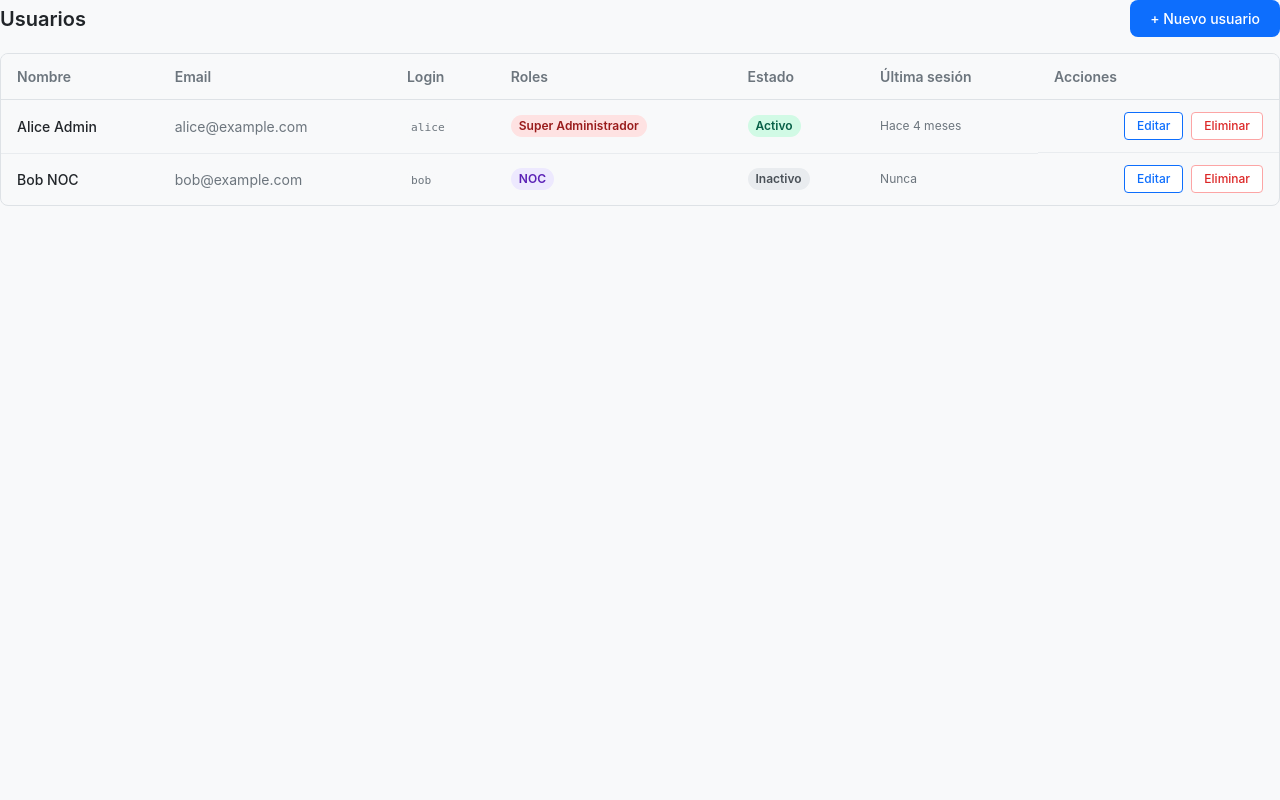
Test: RbacUsersBody › opens RbacUserModal in edit mode when "Editar" is clicked
The image size is (1280, 800).
Click the button "Editar" in the row of "Alice Admin": (1154, 126) [1124,112,1183,140]
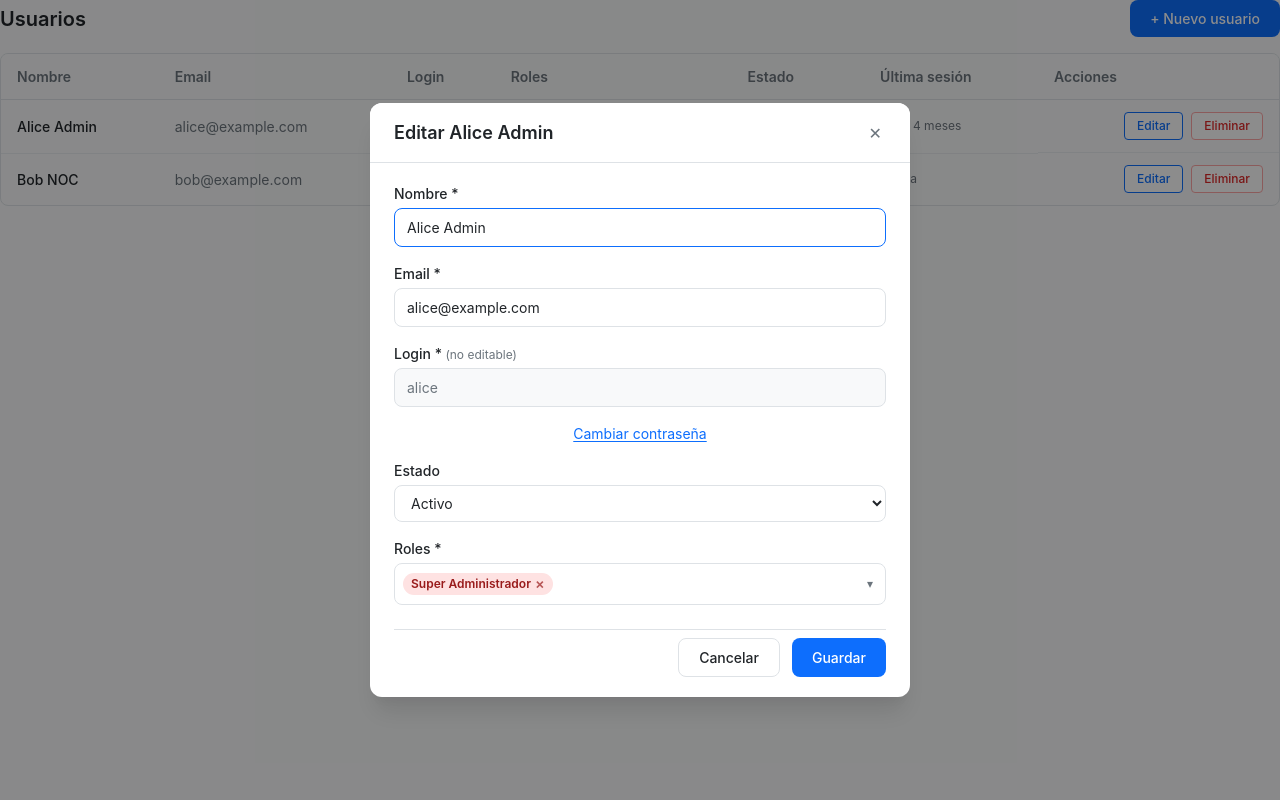
Expected: the dialog is shown, [370,103,910,697]
Expected: the heading "Editar Alice Admin" is shown, [394,119,554,146]
